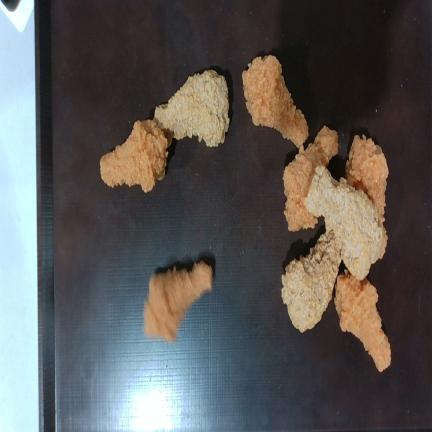chicken: (304, 166, 384, 278), (242, 55, 308, 148), (281, 230, 341, 332), (283, 126, 338, 231), (334, 270, 391, 371), (155, 70, 230, 146), (143, 260, 213, 341), (100, 121, 172, 193), (346, 135, 388, 222)
